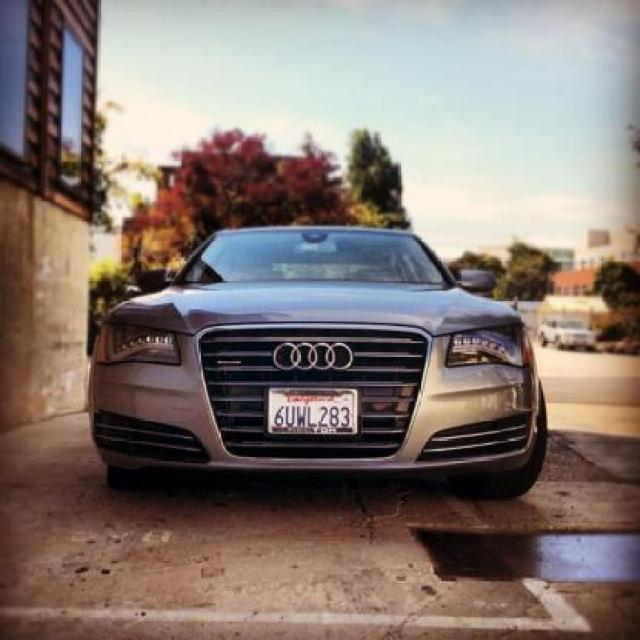License-Plates: (262, 382, 364, 441)
